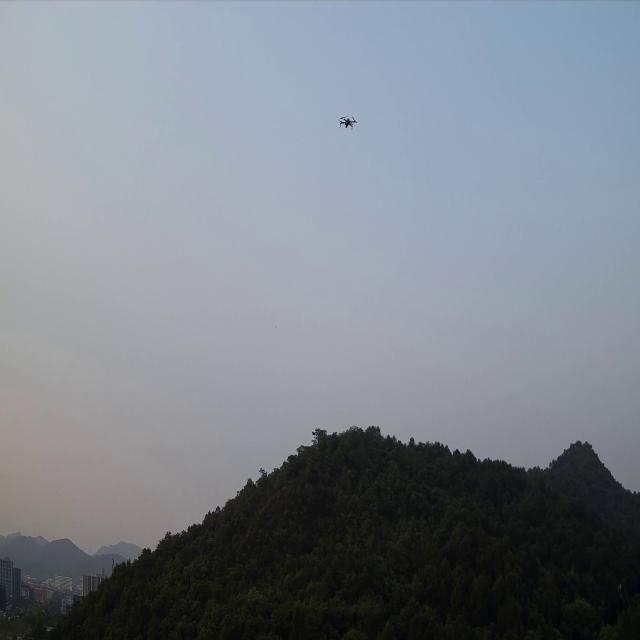UAV: (338, 115, 357, 130)
